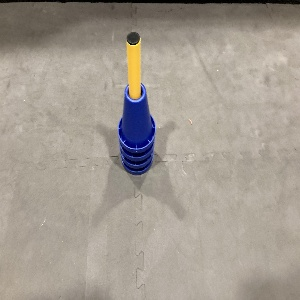Blue_4: (119, 84, 156, 173)
